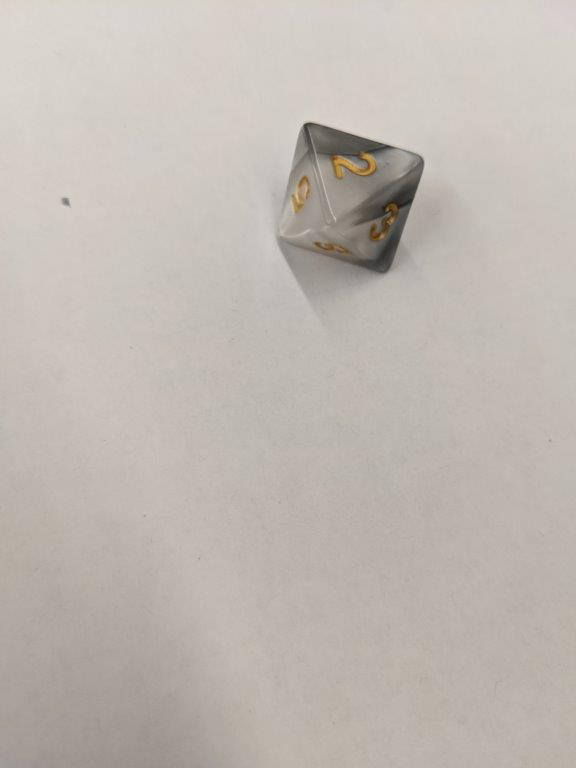d8-2: (277, 122, 425, 273)
